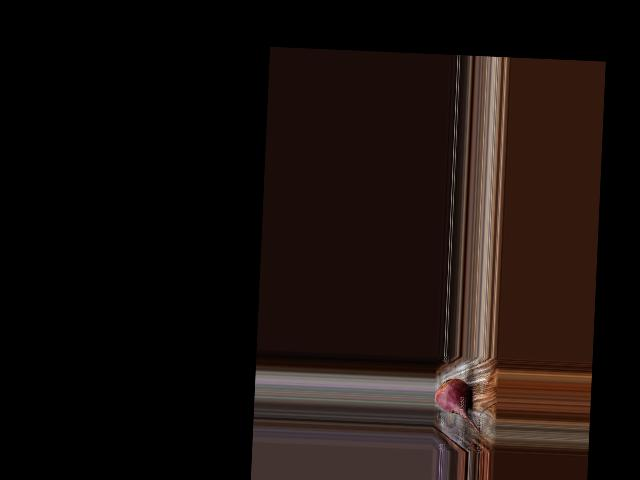beet: (434, 378, 482, 432)
